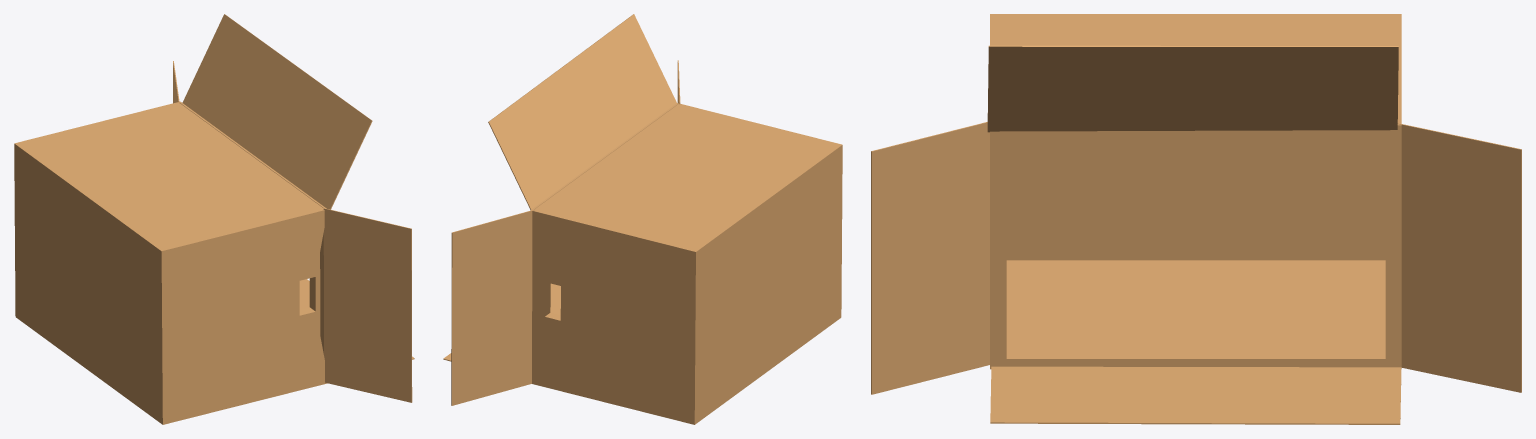
Rendered from Cardboardbox3.fbx.
3 renders of one model, left to right at view 1: azimuth 30°, elevation 25°; view 2: azimuth 150°, elevation 25°; view 3: azimuth 270°, elevation 25°, orthographic. The views are drawn at different scales.
Parts seen in each view (by area): view 1: Cube; view 2: Cube; view 3: Cube.
Boxes of the visible parts, x1,y1,x2,y2 form: Cube: (14, 14, 414, 424); Cube: (443, 14, 842, 424); Cube: (871, 14, 1521, 424).
Size of the model in its own units: 306 by 292 by 485.
